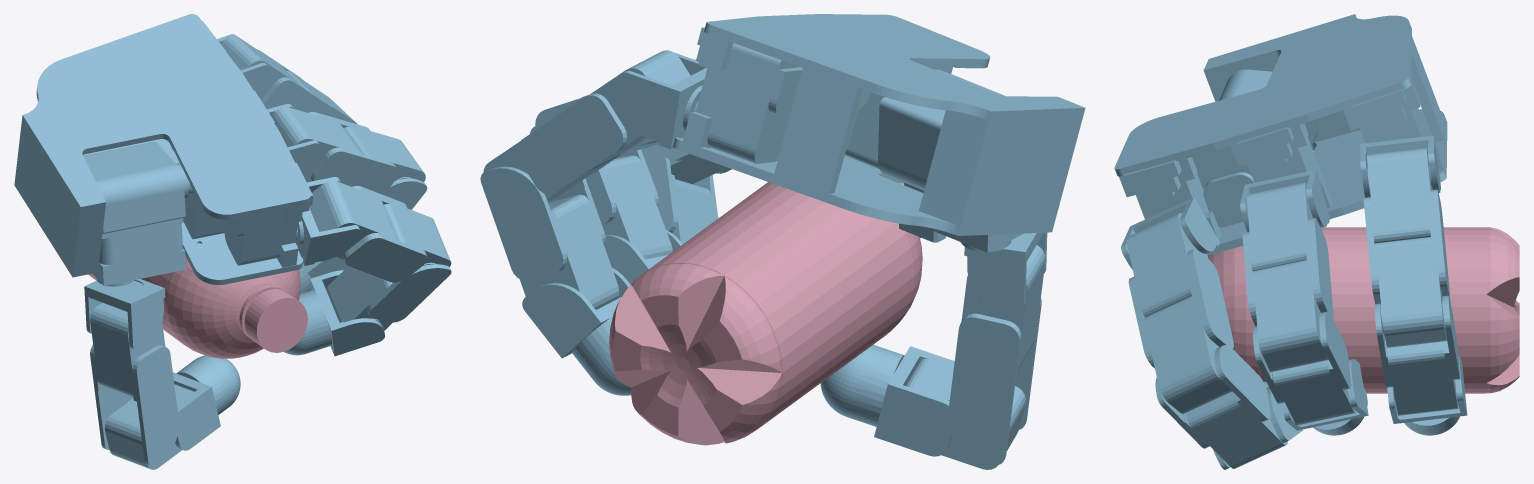
3 renders of one model, left to right at view 1: azimuth 30°, elevation 25°; view 2: azimuth 150°, elevation 25°; view 3: azimuth 270°, elevation 25°, orthographic. The views are drawn at different scales.
Parts seen in each view (by area): view 1: world; view 2: world; view 3: world.
Part boxes in pixels (x1,y1,x2,y2): world: (14,14,451,469); world: (480,14,1085,469); world: (1114,14,1519,469).
Size of the model in its own units: 0.1748 by 0.1603 by 0.1466.
